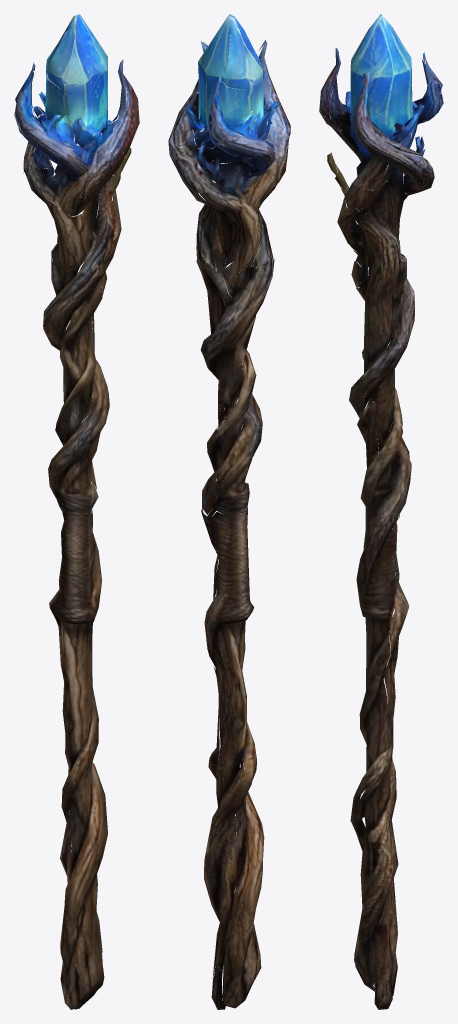
File: driftwood_staff.glb
The picture shows the model from 3 angles, left to right: view 1: azimuth 90°, elevation 25°; view 2: azimuth 150°, elevation 25°; view 3: azimuth 270°, elevation 25°; orthographic projection.
Visible parts, largest first — view 1: driftwood_staff; view 2: driftwood_staff; view 3: driftwood_staff.
Part boxes in pixels (x1=…): driftwood_staff: x1=14, y1=14, x2=139, y2=1009; driftwood_staff: x1=168, y1=14, x2=290, y2=1009; driftwood_staff: x1=319, y1=14, x2=443, y2=1009.
Size of the model in its own units: 0.1789 by 1.79 by 0.204.
1 material, 1 textured.
